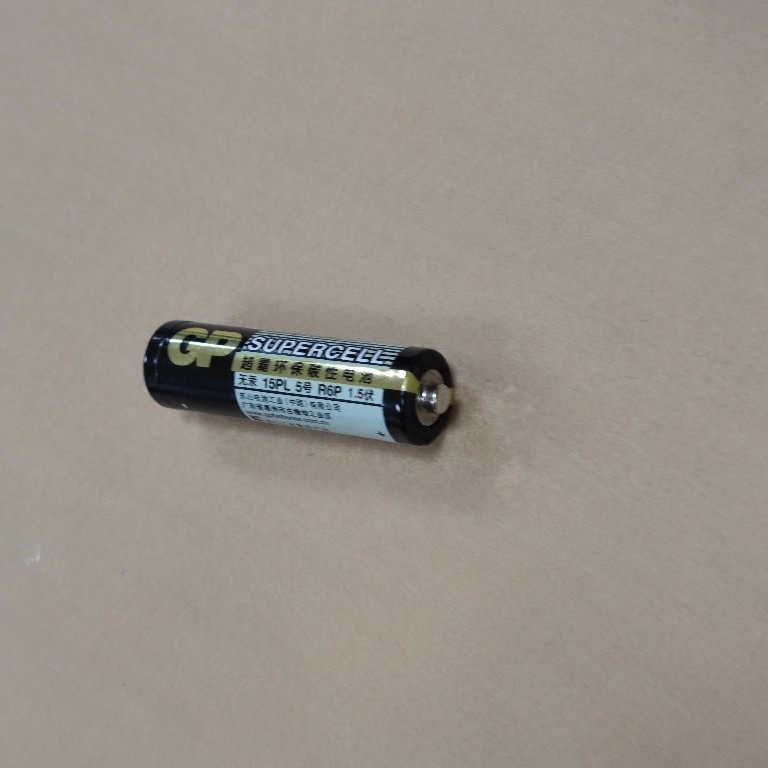charge: (141, 313, 462, 452)
